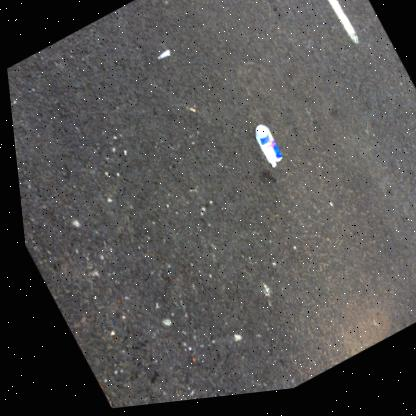Metal: (251, 130, 277, 174)
Waste: (155, 53, 168, 62)
